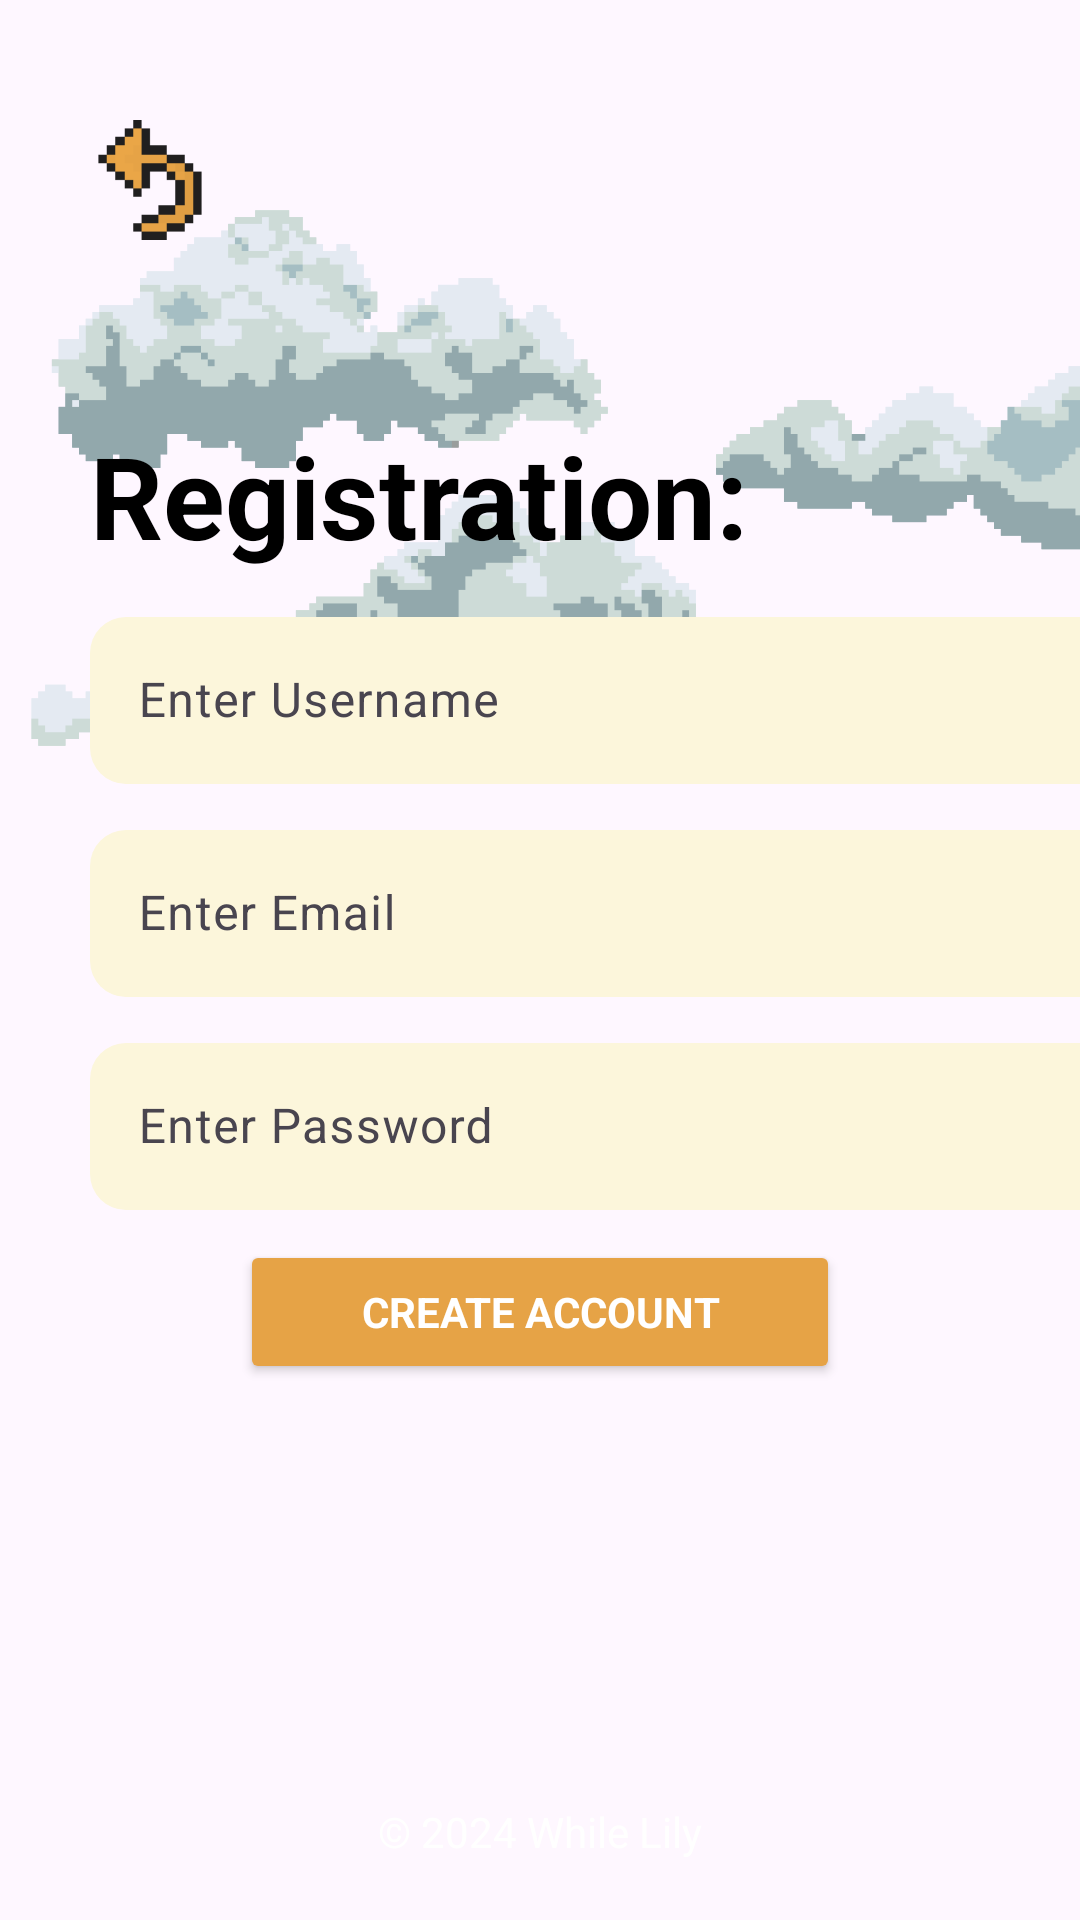

Where icons sit on this 1080w x 1920h app screen, as (x1, y1, x2, y2):
back: (98, 120, 202, 240)
